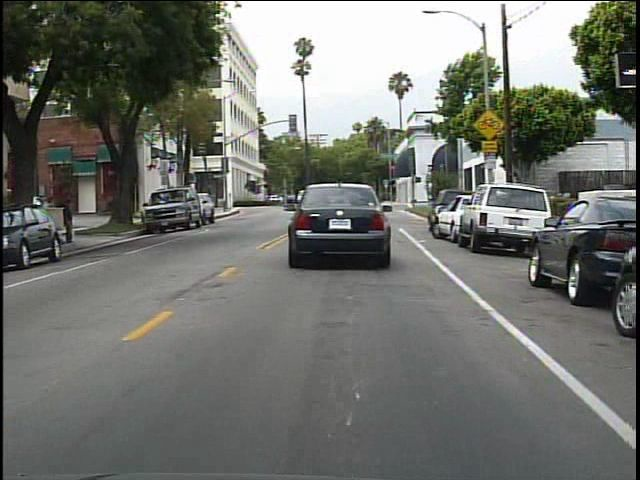person: (64, 196, 81, 247)
